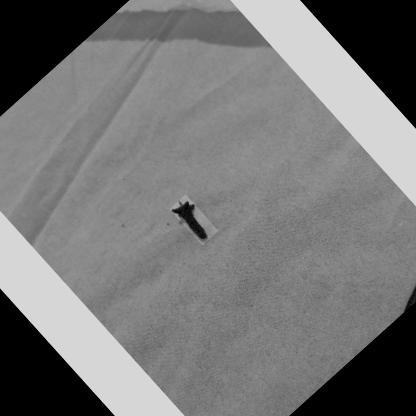buruk: (172, 201, 209, 242)
